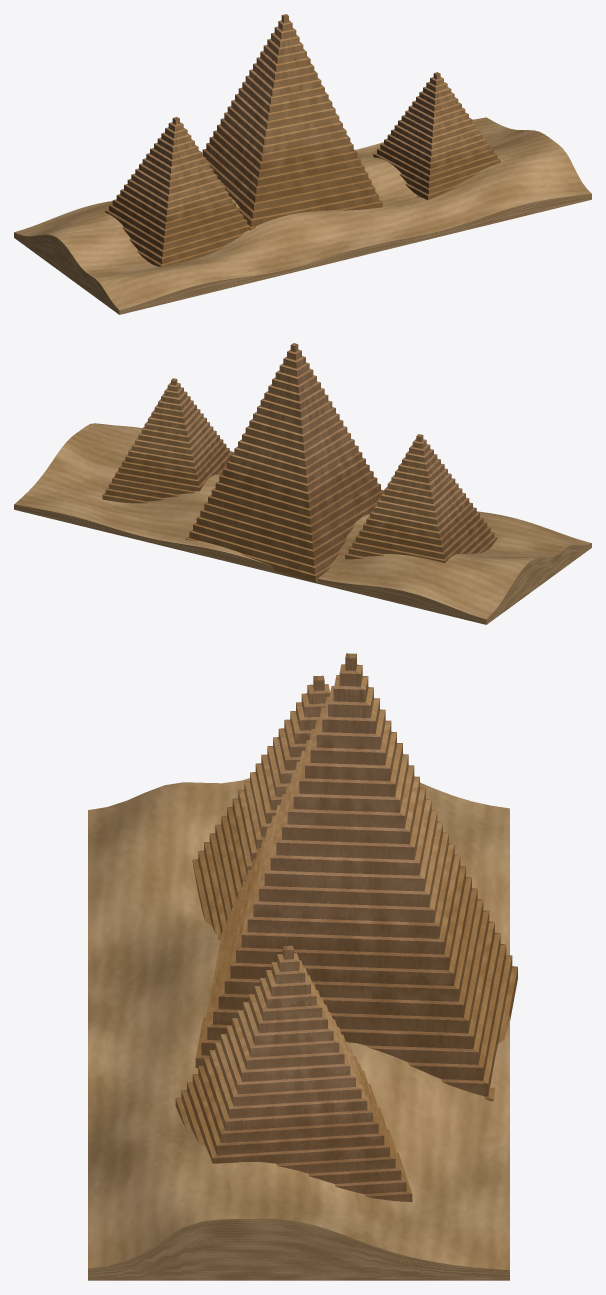
Rendered from nile_horizon_monuments.glb.
3 renders of one model, top to bottom at view 1: azimuth 30°, elevation 25°; view 2: azimuth 150°, elevation 25°; view 3: azimuth 270°, elevation 25°, orthographic. The views are drawn at different scales.
Visible parts, largest first — view 1: nile_horizon_monuments; view 2: nile_horizon_monuments; view 3: nile_horizon_monuments.
Part boxes in pixels (box(x1,y1,x2,y2)): nile_horizon_monuments: box(14, 14, 591, 314); nile_horizon_monuments: box(14, 343, 591, 624); nile_horizon_monuments: box(88, 653, 517, 1280).
Bounding box in the file's own units: 66 × 26 × 26.
1 material, 1 textured.
